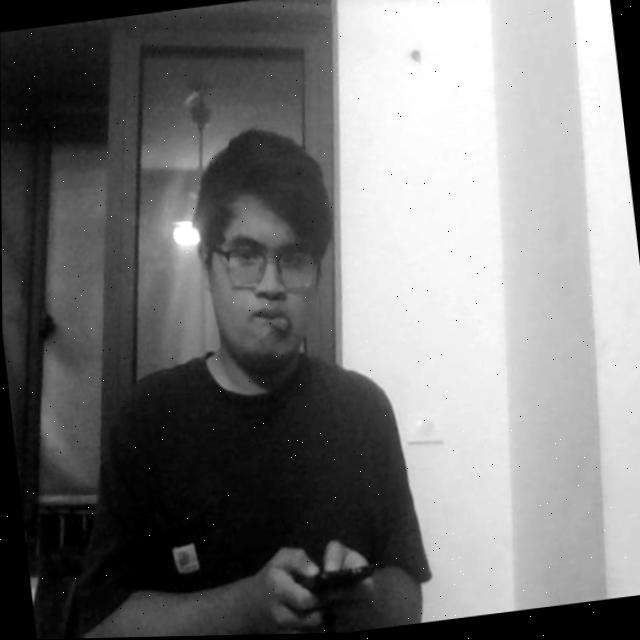phone: (280, 535, 385, 625)
